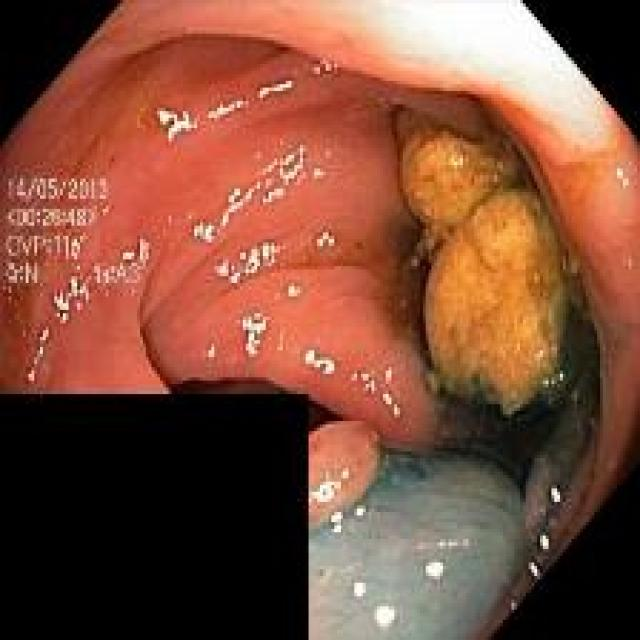Polyps: (308, 421, 381, 531)
